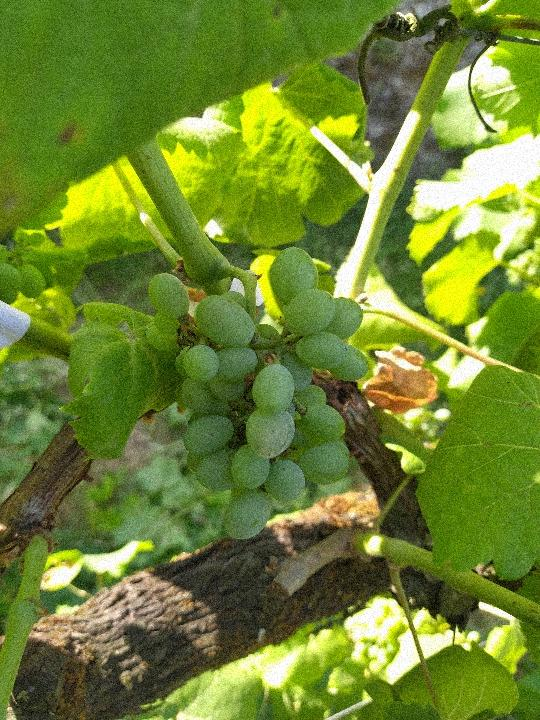grape: (138, 245, 378, 546)
